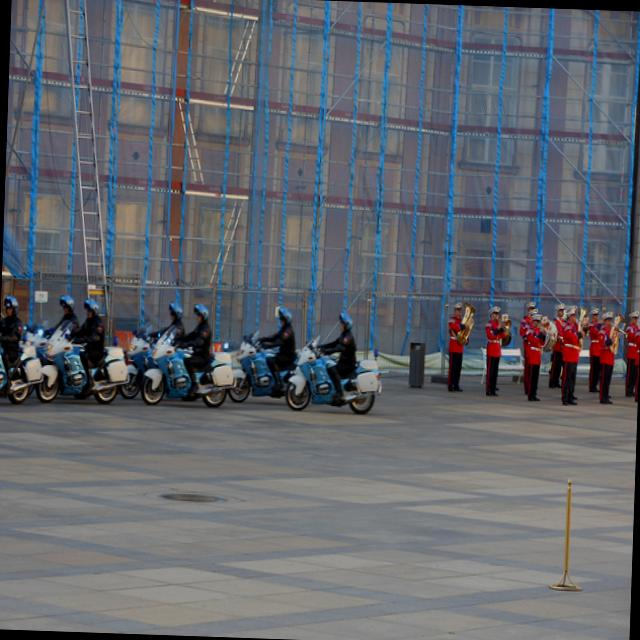Vehicle: (139, 320, 240, 408), (284, 334, 382, 415), (228, 340, 298, 404), (0, 343, 46, 407), (120, 332, 156, 398), (89, 351, 129, 404), (18, 316, 52, 363), (230, 328, 260, 376), (0, 332, 12, 394)
